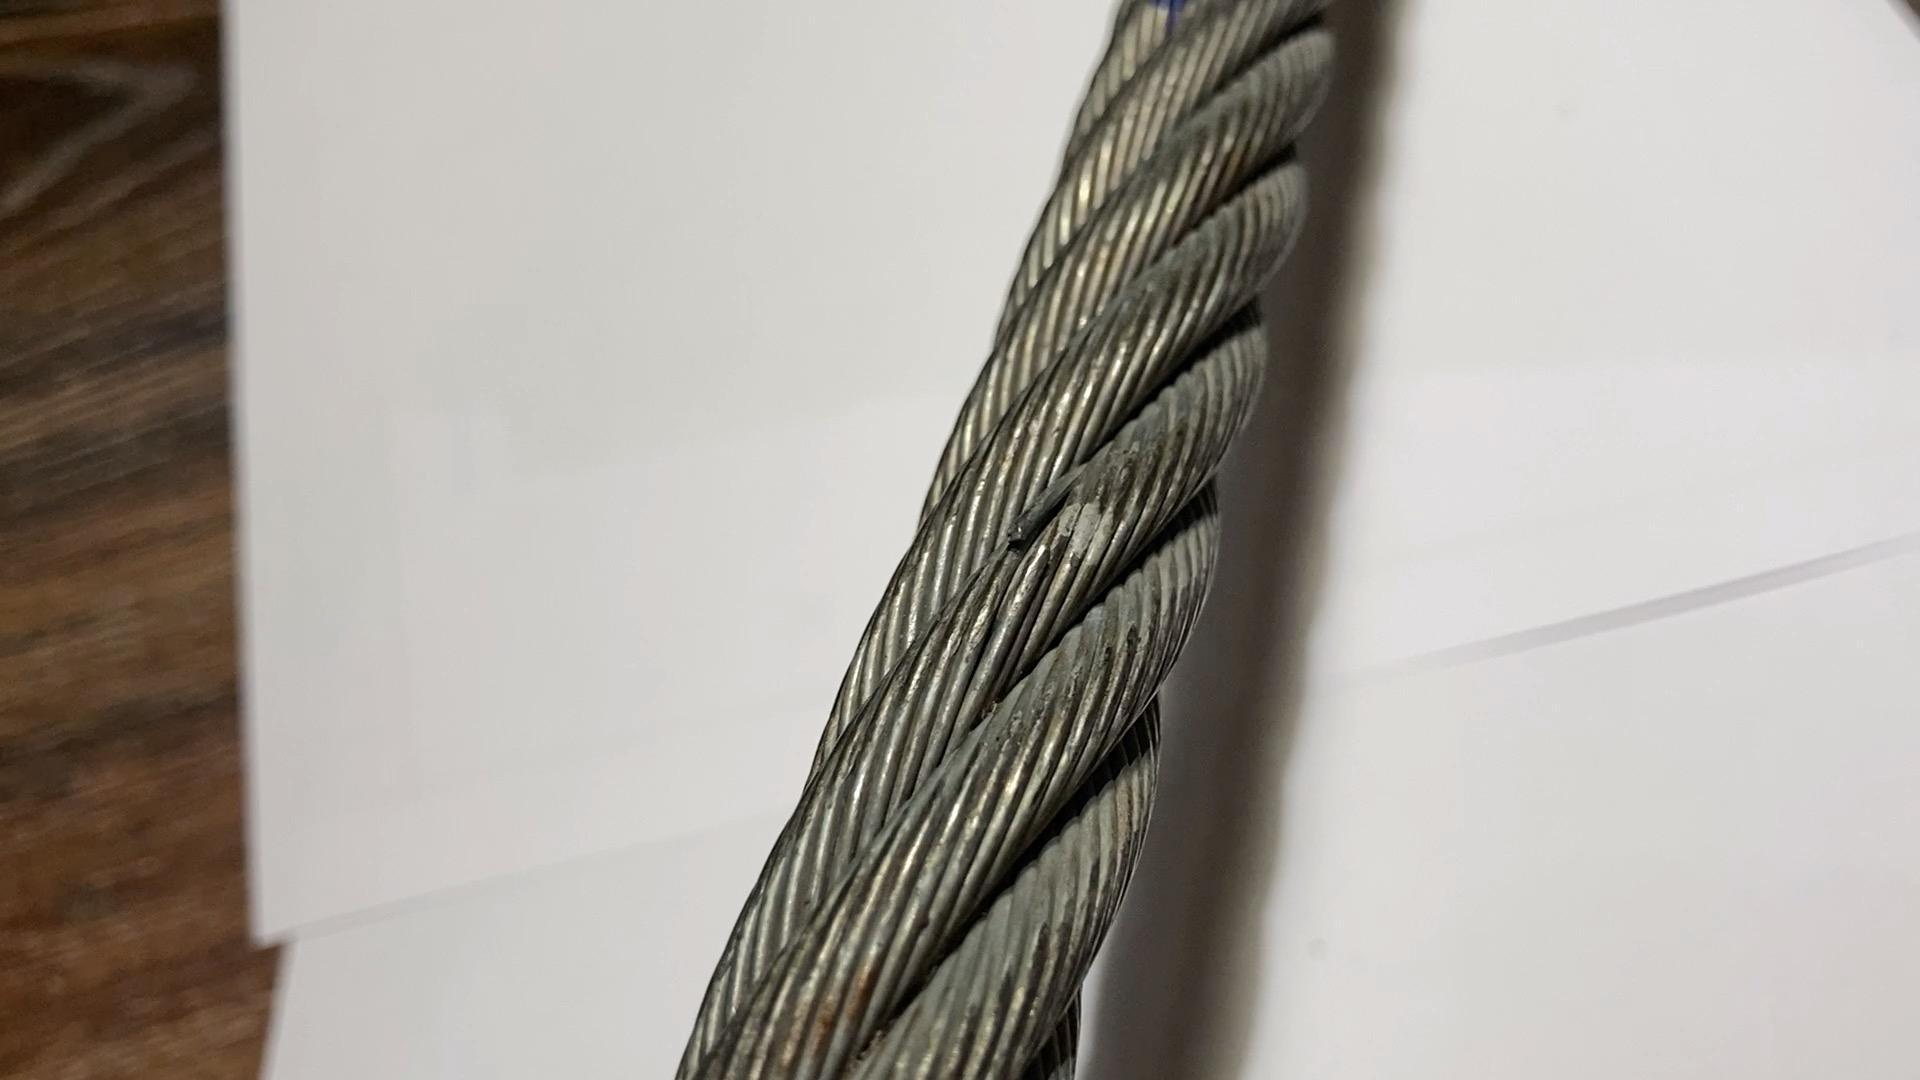break: (985, 493, 1084, 574)
